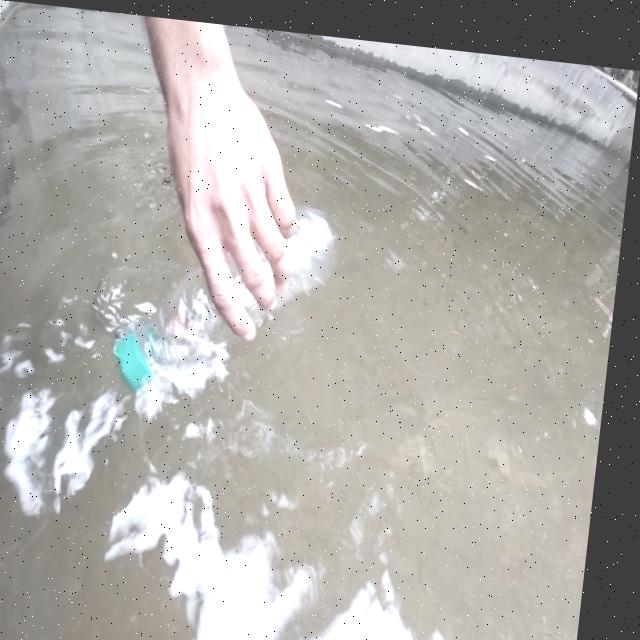waterbottle: (116, 170, 349, 422)
